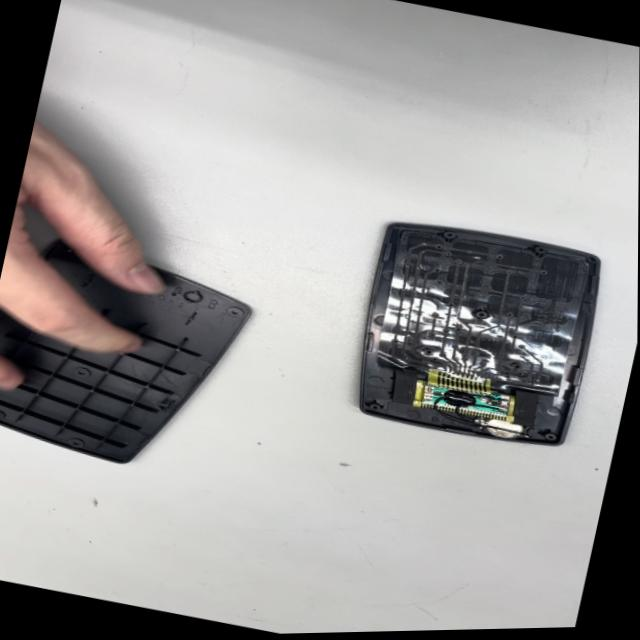front_panel: (338, 204, 620, 470)
